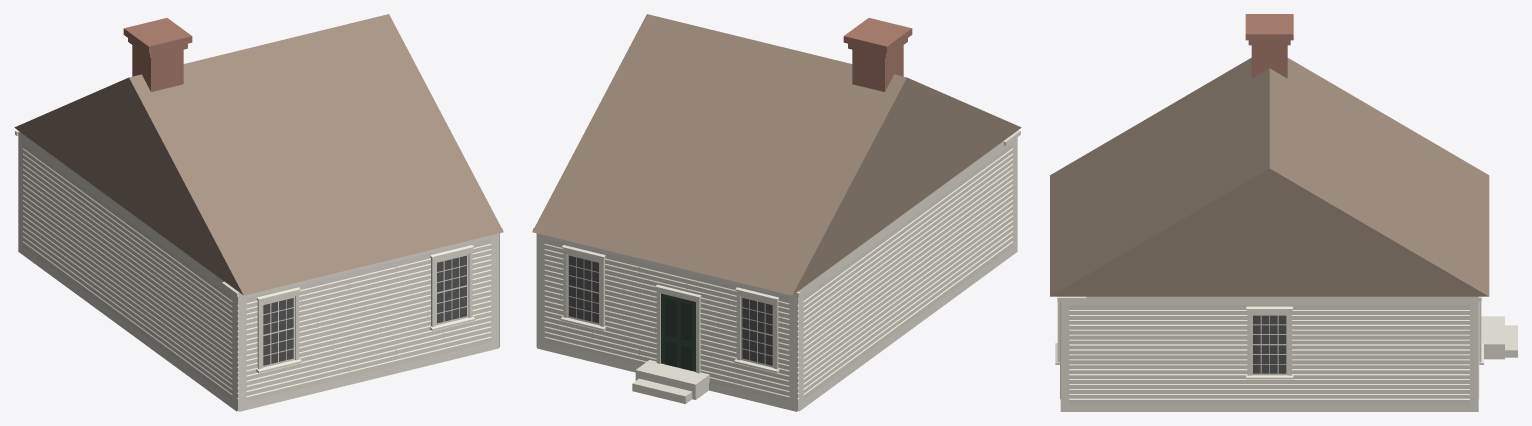
File: recon_1835_west_018__inferred_1835.glb
3 renders of one model, left to right at view 1: azimuth 30°, elevation 25°; view 2: azimuth 150°, elevation 25°; view 3: azimuth 270°, elevation 25°, orthographic. The views are drawn at different scales.
Visible parts, largest first — view 1: recon_1835_west_018__inferred_1835; view 2: recon_1835_west_018__inferred_1835; view 3: recon_1835_west_018__inferred_1835.
Boxes of the visible parts, x1,y1,x2,y2 form: recon_1835_west_018__inferred_1835: (14,14,503,411); recon_1835_west_018__inferred_1835: (532,14,1021,411); recon_1835_west_018__inferred_1835: (1050,14,1517,411).
Bounding box in the file's own units: 6.9 × 7.2 × 10.92.
